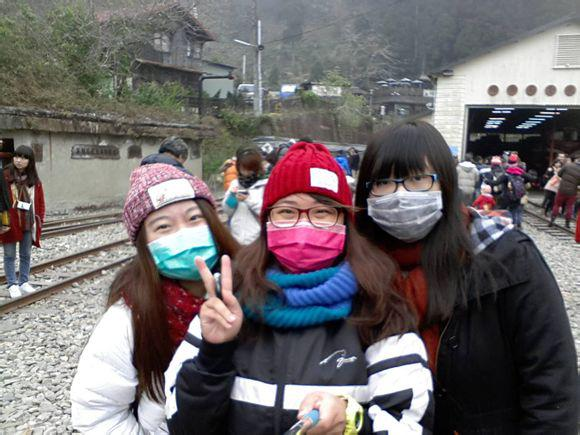NONE: (15, 155, 30, 170)
OK: (147, 204, 218, 275), (269, 200, 340, 269), (373, 170, 441, 241)
